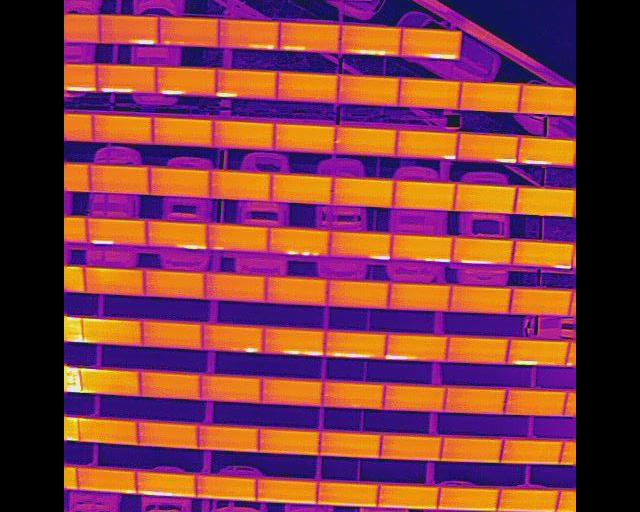Cell: (396, 130, 458, 158)
Cell-Multi: (157, 16, 219, 46), (268, 225, 330, 254)
No-Anomaly: (270, 173, 333, 204), (264, 275, 327, 306), (88, 164, 151, 194), (273, 122, 336, 152), (209, 170, 272, 200), (332, 176, 396, 205), (392, 180, 456, 209), (398, 78, 462, 107), (147, 166, 211, 195), (204, 271, 268, 300), (327, 279, 390, 308), (151, 117, 214, 146), (144, 269, 207, 298), (206, 222, 271, 250), (84, 266, 146, 295), (336, 126, 397, 155), (455, 183, 516, 212), (515, 186, 576, 215), (91, 113, 152, 142), (212, 120, 275, 148), (76, 466, 138, 494), (196, 424, 260, 451), (140, 370, 201, 398), (504, 388, 567, 415), (258, 426, 321, 453), (445, 336, 508, 363), (445, 385, 508, 412), (450, 285, 513, 312), (140, 320, 203, 347), (196, 473, 259, 500), (136, 419, 199, 446), (278, 72, 338, 100), (338, 77, 400, 104), (390, 282, 452, 309), (380, 433, 442, 460), (460, 82, 521, 109), (80, 368, 141, 395), (260, 378, 321, 405), (200, 374, 261, 401), (510, 288, 573, 314), (314, 481, 379, 506), (77, 417, 139, 443), (84, 318, 145, 344), (318, 431, 381, 456), (323, 382, 386, 407), (501, 437, 564, 462), (441, 435, 503, 460), (519, 85, 576, 112), (256, 478, 316, 503), (378, 484, 439, 508), (439, 486, 500, 510), (384, 386, 445, 410), (498, 488, 558, 511)
Unclassified: (278, 20, 341, 52), (217, 67, 278, 98), (97, 13, 160, 43), (384, 331, 449, 360), (199, 323, 266, 351), (95, 63, 156, 93), (146, 219, 209, 248), (330, 229, 392, 258), (218, 18, 279, 47), (457, 132, 518, 161), (155, 66, 216, 95), (262, 327, 324, 355), (339, 25, 401, 53), (392, 234, 454, 262), (400, 29, 459, 58), (452, 237, 513, 265), (135, 469, 198, 496), (508, 337, 568, 365), (86, 217, 148, 244), (324, 330, 386, 357), (514, 240, 573, 268), (518, 136, 576, 164)
